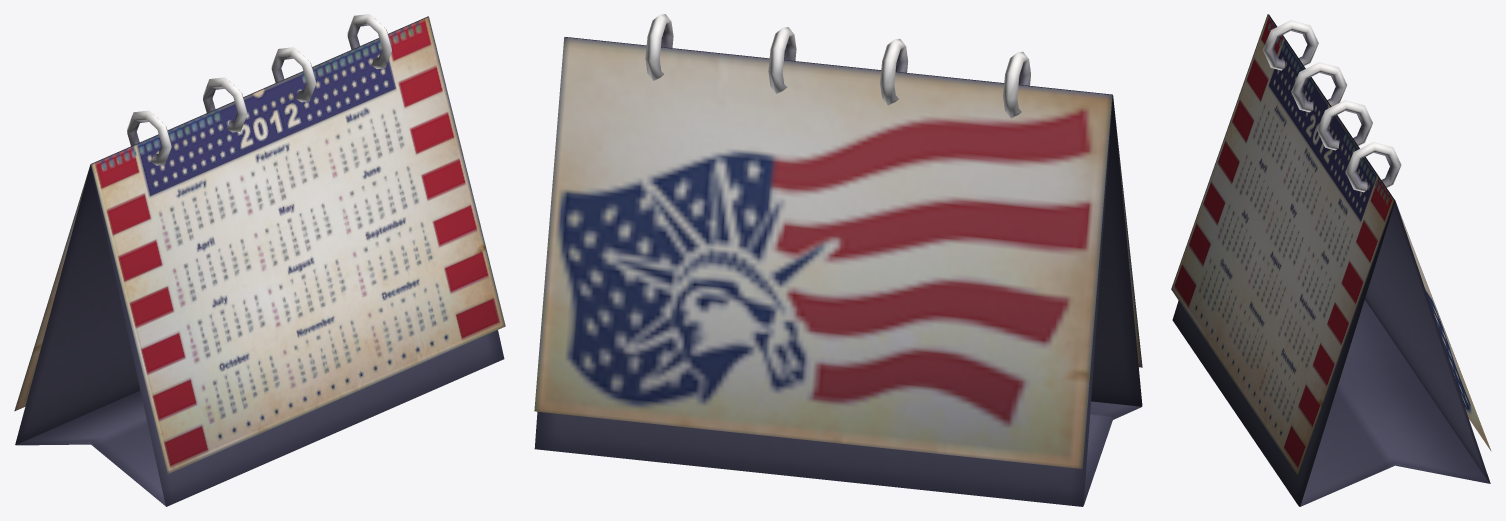
Rendered from ShaShouJia_01_taili_01.FBX.
3 renders of one model, left to right at view 1: azimuth 30°, elevation 25°; view 2: azimuth 150°, elevation 25°; view 3: azimuth 270°, elevation 25°, orthographic. The views are drawn at different scales.
Visible parts, largest first — view 1: ShaShouJia_01_taili_01; view 2: ShaShouJia_01_taili_01; view 3: ShaShouJia_01_taili_01.
Boxes of the visible parts, x1,y1,x2,y2 form: ShaShouJia_01_taili_01: (14, 14, 505, 506); ShaShouJia_01_taili_01: (534, 14, 1142, 506); ShaShouJia_01_taili_01: (1171, 14, 1491, 506).
Size of the model in its own units: 255 by 181 by 164.
